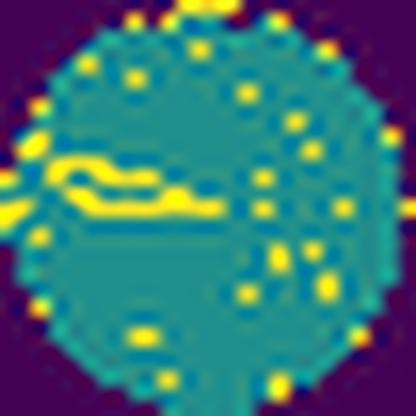Scratch: (40, 148, 236, 227)
